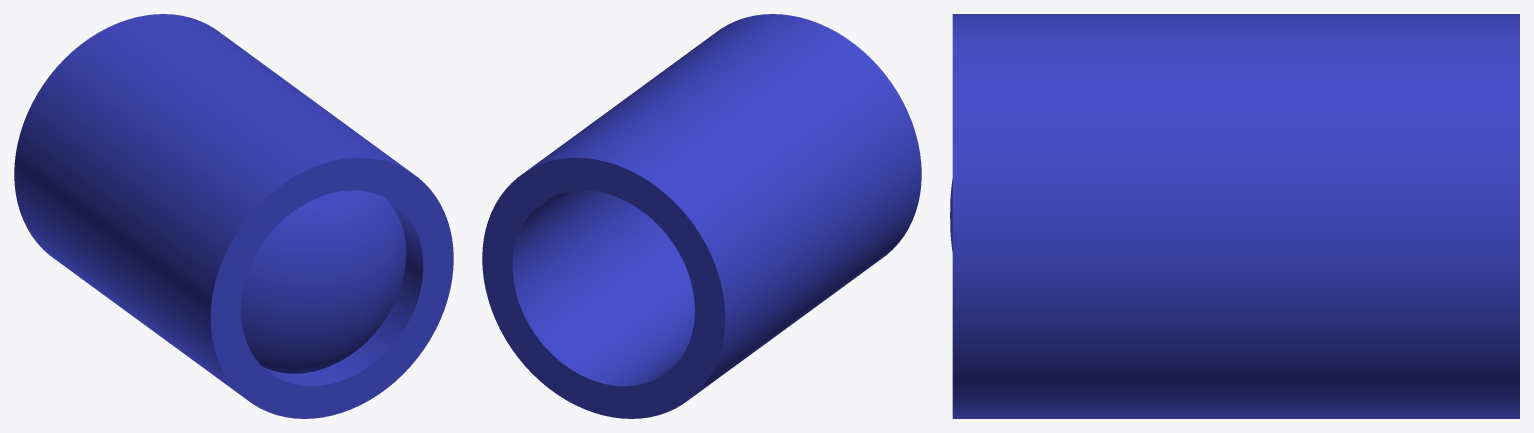
3 views of the same model, side by side, from view 1: azimuth 30°, elevation 25°; view 2: azimuth 150°, elevation 25°; view 3: azimuth 270°, elevation 25° (orthographic). The views are drawn at different scales.
Visible parts, largest first — view 1: root (×2); view 2: root; view 3: root.
Boxes of the visible parts, bbox=[...] form: root (×2): bbox=[14, 14, 453, 418]; root: bbox=[482, 14, 921, 418]; root: bbox=[952, 14, 1519, 418].
Bounding box in the file's own units: 0.4822 × 0.4822 × 0.678.
